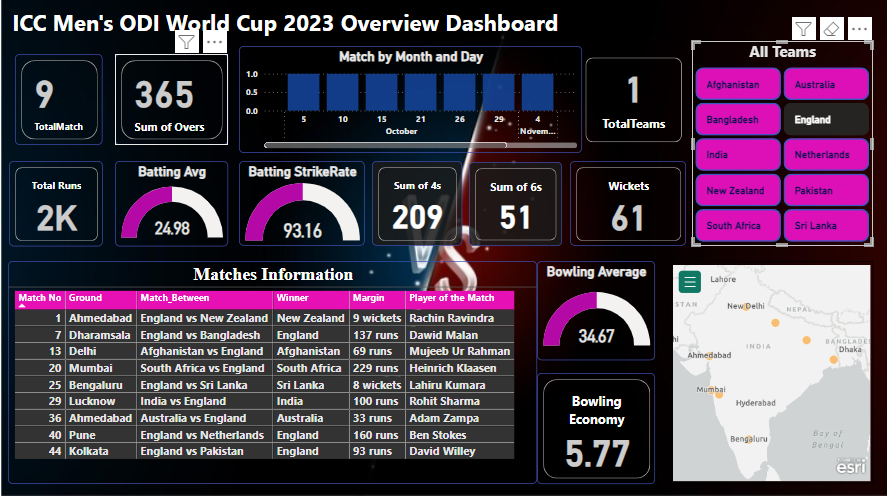

The page's visual inventory and layout, read from the dashboard file:
{"tool":"powerbi","page":{"name":"ICC World Cup 2023 Overall Tournament Overview","canvas":[1280,720],"ordinal":0},"visuals":[{"type":"cardVisual","fields":{"Data":["Sum(bowling_summary.Overs)"]},"box":[165.9,84.1,162.5,130.7],"z":0},{"type":"cardVisual","fields":{"Data":["Key_Measures.wickets"]},"box":[820.8,237.6,167,122.4],"z":1000},{"type":"cardVisual","fields":{"Data":["Key_Measures.Total Runs"]},"box":[12.5,237.5,135.2,122.7],"z":2000},{"type":"lineClusteredColumnComboChart","title":"Match by Month and Day","fields":{"Category":["matches_schedule_results.Date.Variation.Date Hierarchy.Month","matches_schedule_results.Date.Variation.Date Hierarchy.Day"],"Y":["CountNonNull(matches_schedule_results.Match No)"]},"box":[344.2,72,493.9,154.1],"z":3000},{"type":"tableEx","title":"     Matches Information","fields":{"Values":["matches_schedule_results.Match No","matches_schedule_results.Ground","batting_summary_out.Match_Between","matches_schedule_results.Winner","matches_schedule_results.Margin","matches_schedule_results.Player of the Match"]},"box":[11.5,381.6,761.8,321.1],"z":4000},{"type":"advancedSlicerVisual","title":"All Teams","fields":{"Values":["world_cup_players_info.team_name"]},"box":[996.5,64.8,260.6,295.2],"z":5000},{"type":"cardVisual","title":"4s","fields":{"Data":["Sum(batting_summary_out.4s)"]},"box":[535.7,237.6,129.6,122.4],"z":6000},{"type":"cardVisual","fields":{"Data":["Sum(batting_summary_out.6s)"]},"box":[675.4,239,133.9,121],"z":7000},{"type":"cardVisual","fields":{"Data":["Key_Measures.TotalTeams"]},"box":[838.1,83.5,149.8,132.5],"z":8000},{"type":"cardVisual","fields":{"Data":["Key_Measures.TotalMatchesCount"]},"box":[21.6,84.1,126.1,130.7],"z":9000},{"type":"cardVisual","fields":{"Data":["Key_Measures.Economy"]},"box":[773.1,543.3,170.1,159.7],"z":10000},{"type":"gauge","fields":{"Y":["Key_Measures.Bowling Average"]},"box":[773.3,381.6,169.9,142.6],"z":11000},{"type":"gauge","fields":{"Y":["Key_Measures.Batting Avg"]},"box":[165.9,237.5,162.5,122.7],"z":12000},{"type":"gauge","fields":{"Y":["Key_Measures.Strike rate"]},"box":[344.2,237.6,181.4,122.4],"z":13000},{"type":"textbox","box":[12.5,10.2,808,54.5],"z":14000},{"type":"esriVisual","fields":{"Location":["matches_schedule_results.Ground"]},"box":[963.4,381.6,293.8,321.1],"z":15000}]}

Visuals, with their boxes in screenshot pixels (x1, y1, x2, y2), scaled from the page's 1280x720 canvas onto the 887x496 screenshot:
cardVisual - Sum(bowling_summary.Overs): x1=115 y1=58 x2=228 y2=148
cardVisual - Key_Measures.wickets: x1=569 y1=164 x2=685 y2=248
cardVisual - Key_Measures.Total Runs: x1=9 y1=164 x2=102 y2=248
"Match by Month and Day" lineClusteredColumnComboChart: x1=239 y1=50 x2=581 y2=156
"     Matches Information" tableEx: x1=8 y1=263 x2=536 y2=484
"All Teams" advancedSlicerVisual: x1=691 y1=45 x2=871 y2=248
"4s" cardVisual: x1=371 y1=164 x2=461 y2=248
cardVisual - Sum(batting_summary_out.6s): x1=468 y1=165 x2=561 y2=248
cardVisual - Key_Measures.TotalTeams: x1=581 y1=58 x2=685 y2=149
cardVisual - Key_Measures.TotalMatchesCount: x1=15 y1=58 x2=102 y2=148
cardVisual - Key_Measures.Economy: x1=536 y1=374 x2=654 y2=484
gauge - Key_Measures.Bowling Average: x1=536 y1=263 x2=654 y2=361
gauge - Key_Measures.Batting Avg: x1=115 y1=164 x2=228 y2=248
gauge - Key_Measures.Strike rate: x1=239 y1=164 x2=364 y2=248
textbox: x1=9 y1=7 x2=569 y2=45
esriVisual - matches_schedule_results.Ground: x1=668 y1=263 x2=871 y2=484
